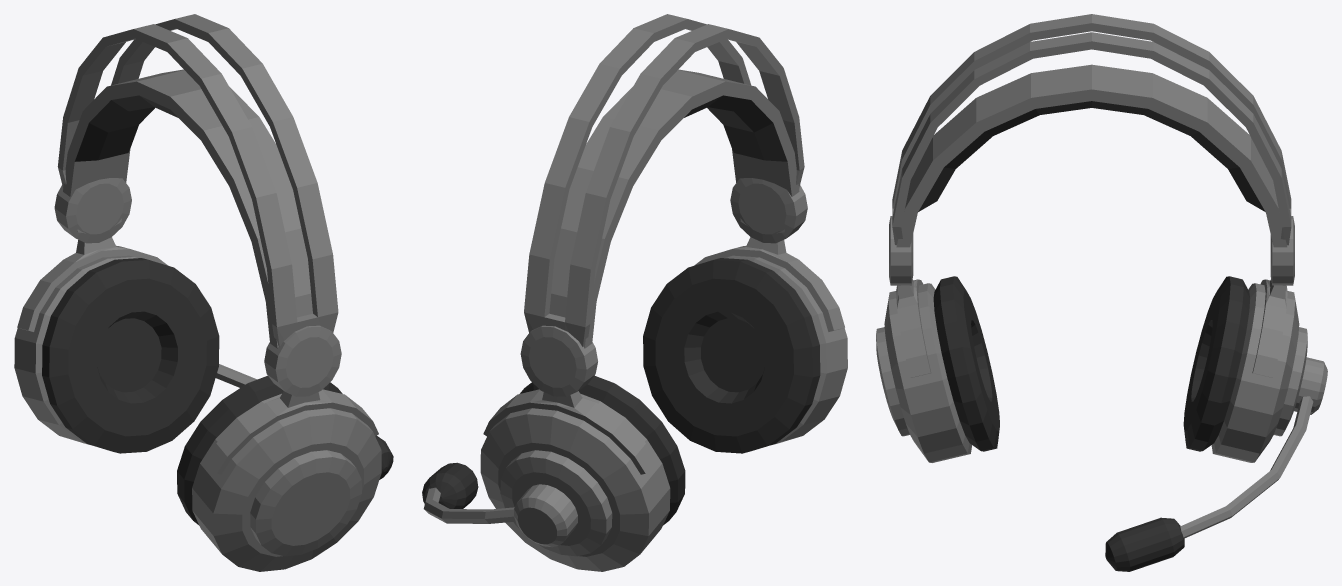
The model's file is 1331 HighEnd Headset.obj.
The picture shows the model from 3 angles, left to right: view 1: azimuth 30°, elevation 25°; view 2: azimuth 150°, elevation 25°; view 3: azimuth 270°, elevation 25°; orthographic projection. The views are drawn at different scales.
Parts seen in each view (by area): view 1: High_End_Headset; view 2: High_End_Headset; view 3: High_End_Headset.
Part boxes in pixels (x1,y1,x2,y2): High_End_Headset: (14,14,393,571); High_End_Headset: (422,14,847,571); High_End_Headset: (876,14,1327,571).
Size of the model in its own units: 45.86 by 74.84 by 66.87.
Materials: 1 (1 with a texture image).
